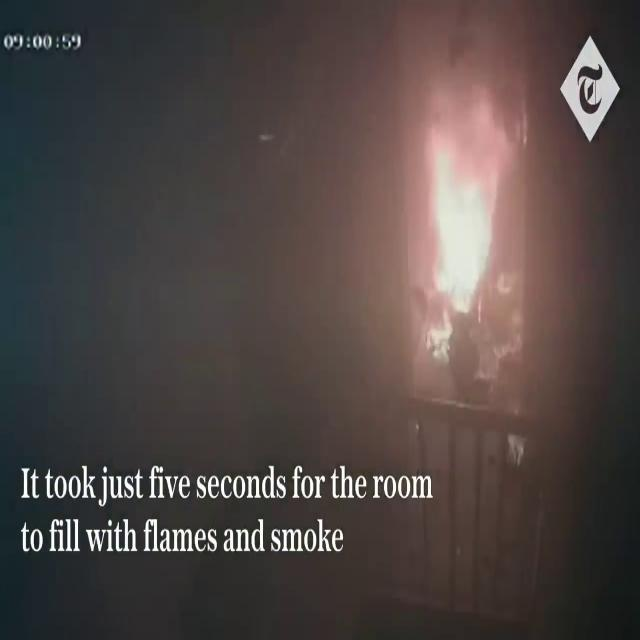Fire: (420, 136, 510, 322)
